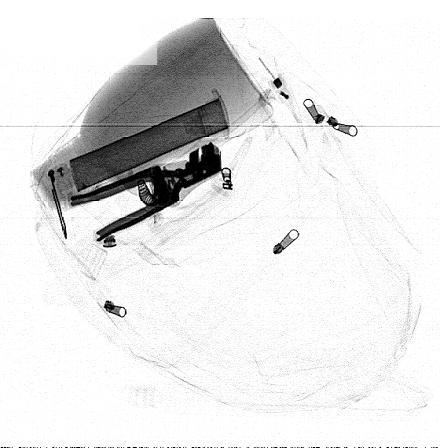Pliers: (69, 140, 224, 243)
